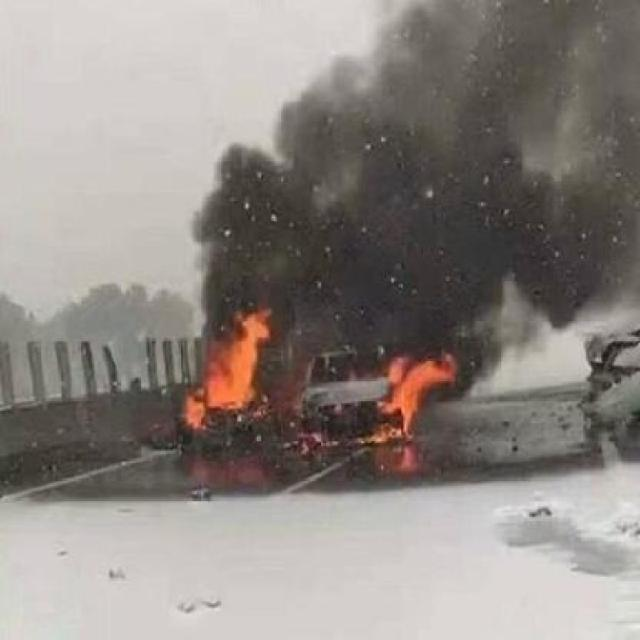Fire: (168, 310, 274, 440), (382, 348, 454, 441)
Smoke: (198, 6, 640, 312)
